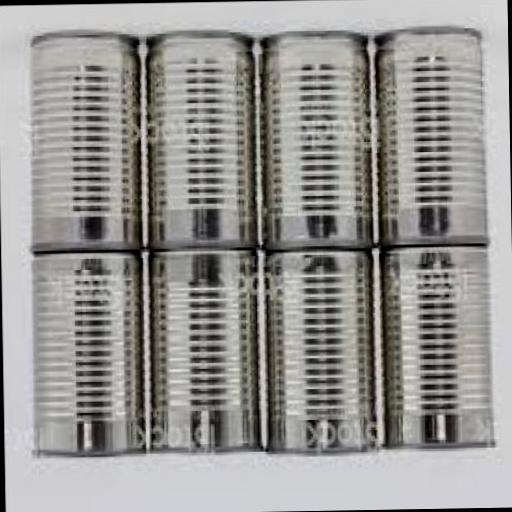metal: (373, 27, 488, 250), (260, 34, 376, 252), (144, 31, 259, 248), (31, 32, 143, 253), (264, 250, 381, 458), (148, 249, 264, 458), (32, 254, 148, 460), (379, 246, 495, 452)
